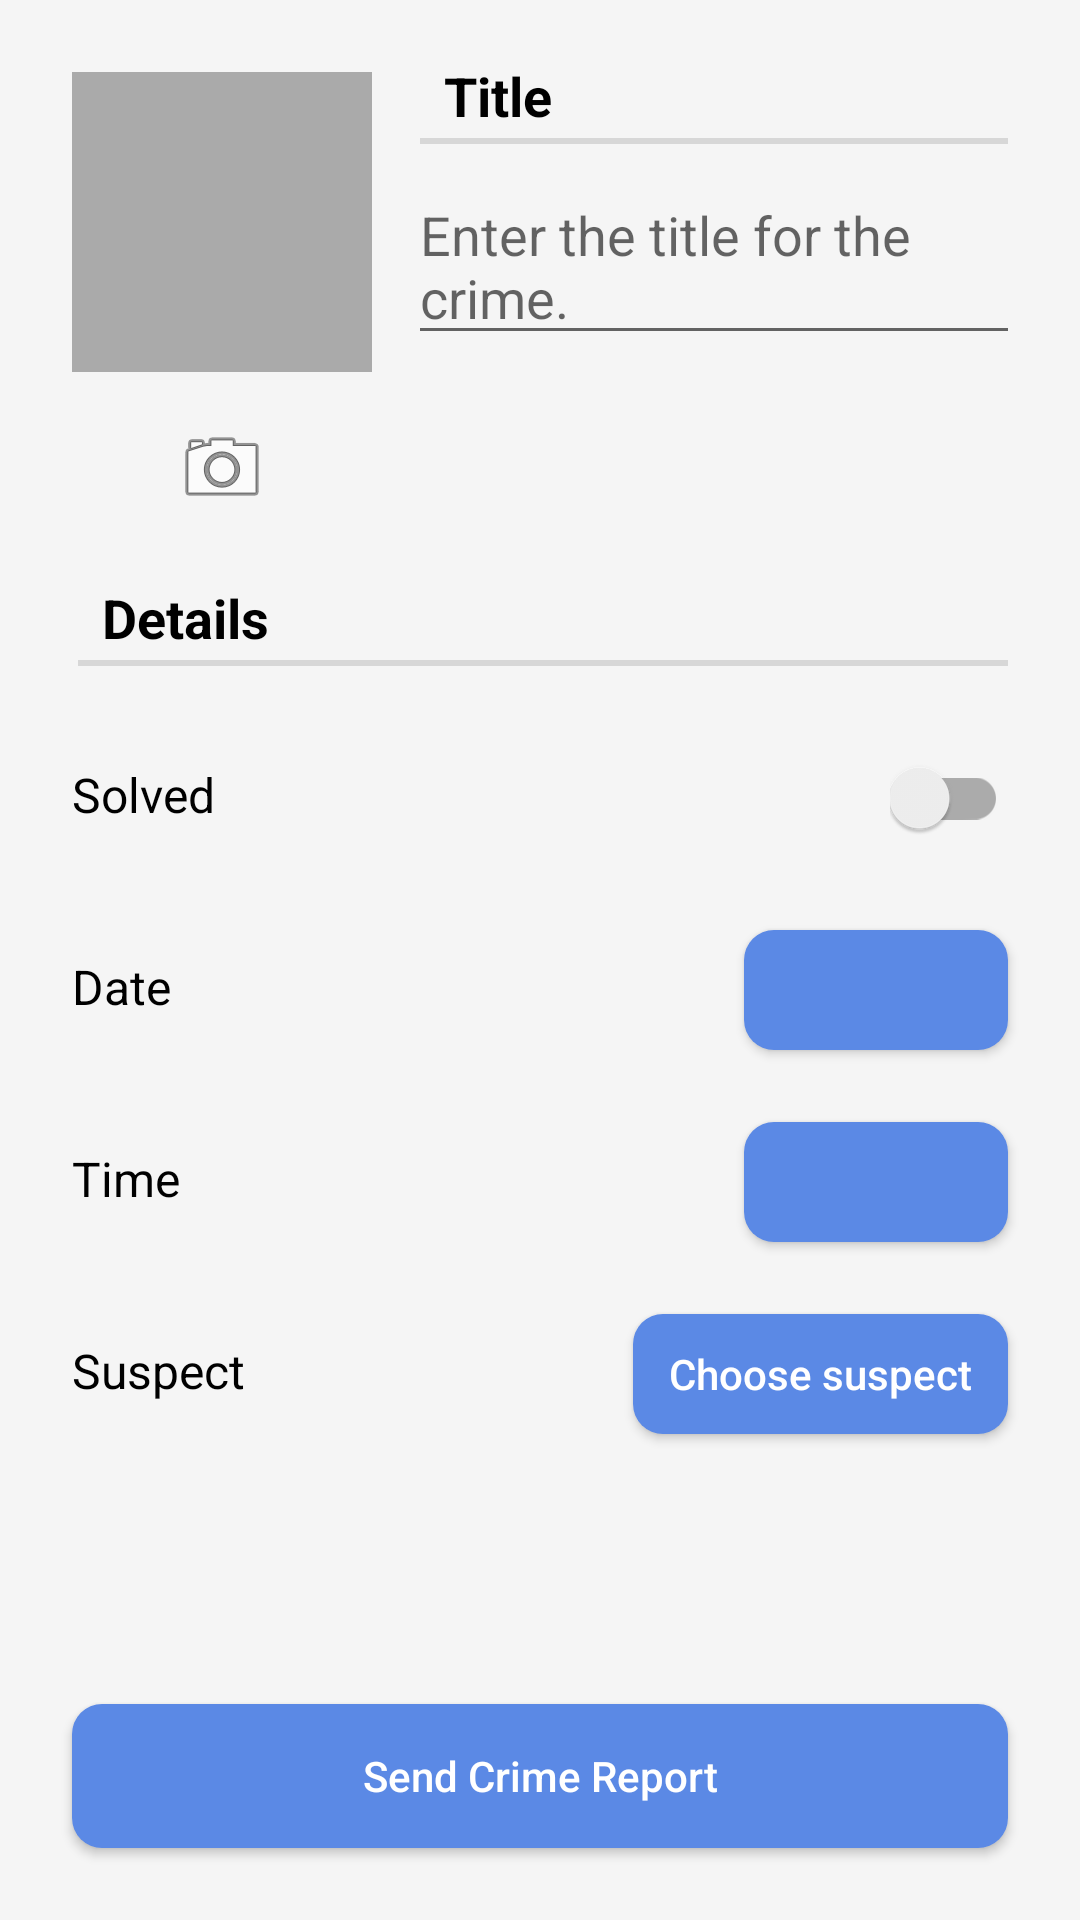

Icons on this 1080w x 1920h Android screen, each with the point to tap as (x=x, y=y):
Take photo of crime scene: (x=222, y=466)
